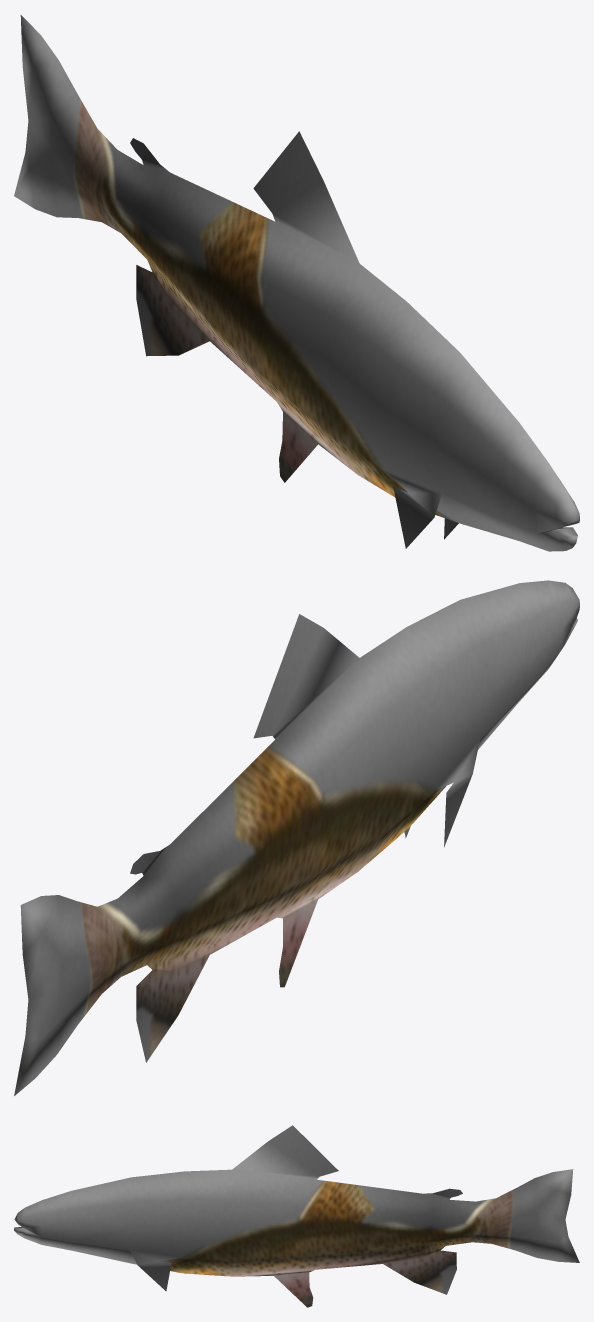
The model's file is trout.glb.
3 renders of one model, top to bottom at view 1: azimuth 30°, elevation 25°; view 2: azimuth 150°, elevation 25°; view 3: azimuth 270°, elevation 25°, orthographic. The views are drawn at different scales.
Parts seen in each view (by area): view 1: trout; view 2: trout; view 3: trout.
Boxes of the visible parts, x1,y1,x2,y2 form: trout: (14, 15, 579, 551); trout: (14, 580, 579, 1095); trout: (14, 1125, 579, 1307).
Bounding box in the file's own units: 0.0341 × 0.1708 × 0.48.
1 material, 1 textured.
